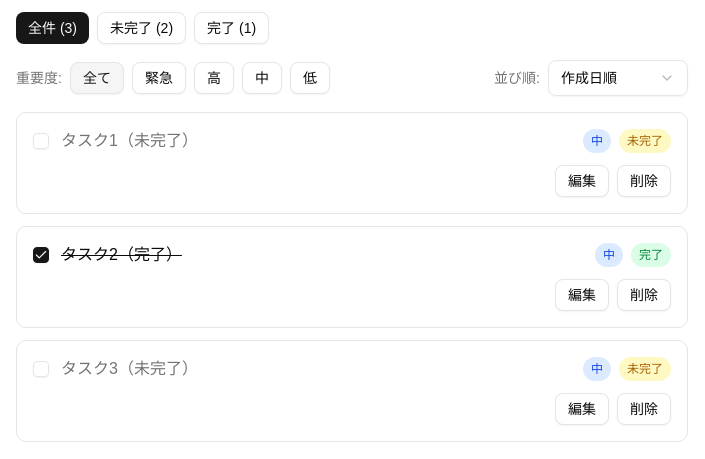
Test case: TodoList › Filter functionality › should show only incomplete todos when incomplete filter is clicked
Click the button "未完了 (2)": x=142, y=28 [97, 12, 186, 44]
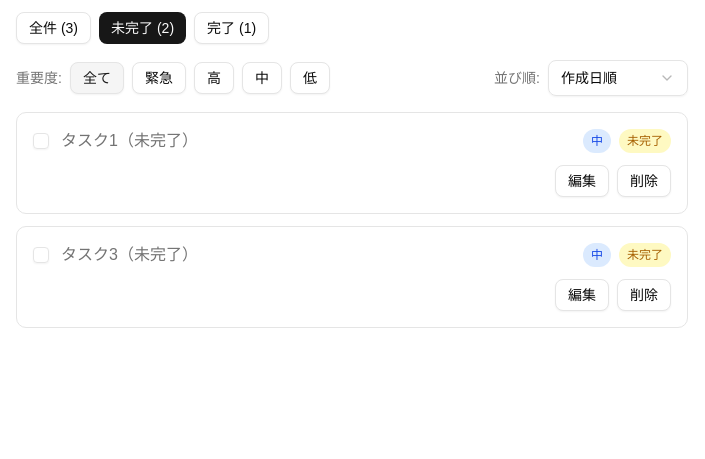
Expected: the heading "タスク1（未完了）" is shown, [61, 129, 198, 153]
Expected: the heading "タスク2（完了）" is gone
